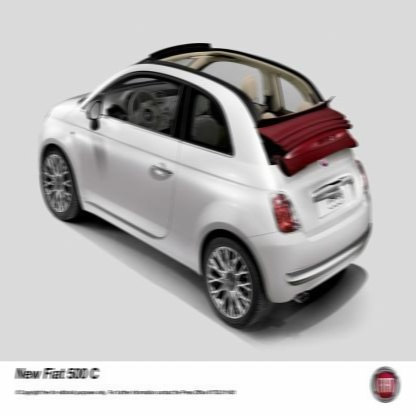Vehicle: (39, 41, 370, 329)
